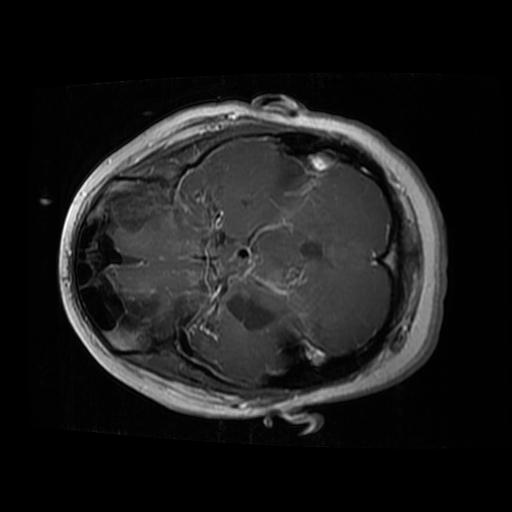glioma: (222, 291, 284, 333)
